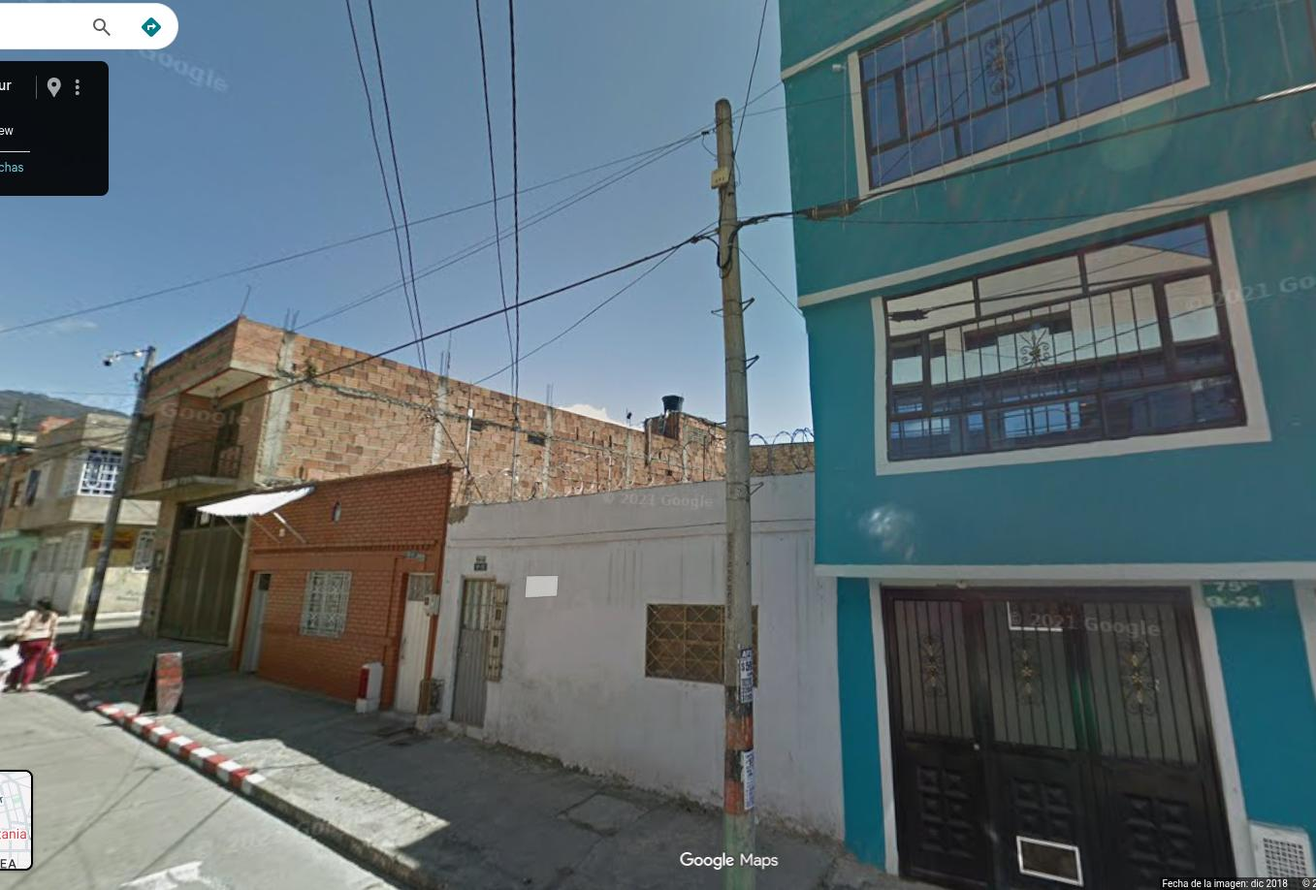casa: (739, 0, 1315, 889), (432, 481, 725, 804), (200, 464, 454, 733), (127, 317, 299, 642), (751, 472, 845, 840)
poste: (714, 98, 760, 856), (80, 345, 155, 639)
